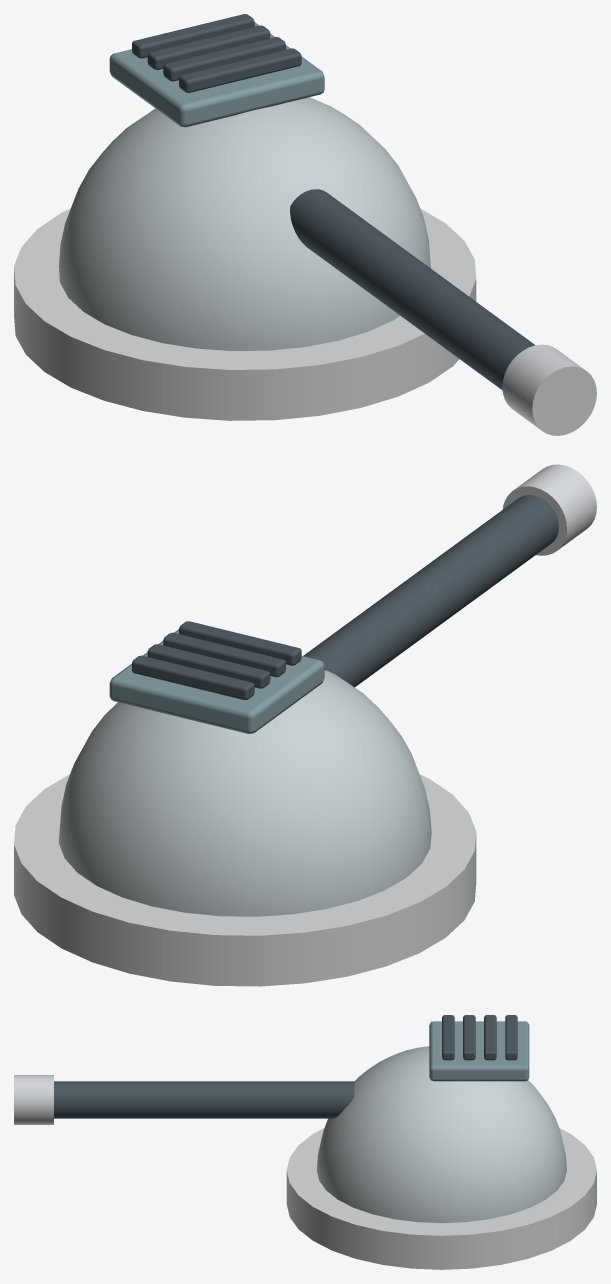
3 views of the same model, one above another, from view 1: azimuth 30°, elevation 25°; view 2: azimuth 150°, elevation 25°; view 3: azimuth 270°, elevation 25° (orthographic). The views are drawn at different scales.
Visible parts, largest first — view 1: point-defence-dome, turret; view 2: point-defence-dome, turret; view 3: point-defence-dome, turret.
Boxes of the visible parts, x1=… form: point-defence-dome: x1=14, y1=14, x2=596, y2=435; turret: x1=58, y1=97, x2=430, y2=350; point-defence-dome: x1=14, y1=464, x2=596, y2=986; turret: x1=58, y1=670, x2=431, y2=916; point-defence-dome: x1=14, y1=1015, x2=596, y2=1269; turret: x1=316, y1=1046, x2=566, y2=1223.
Size of the model in its own units: 1.24 by 0.755 by 2.33.
